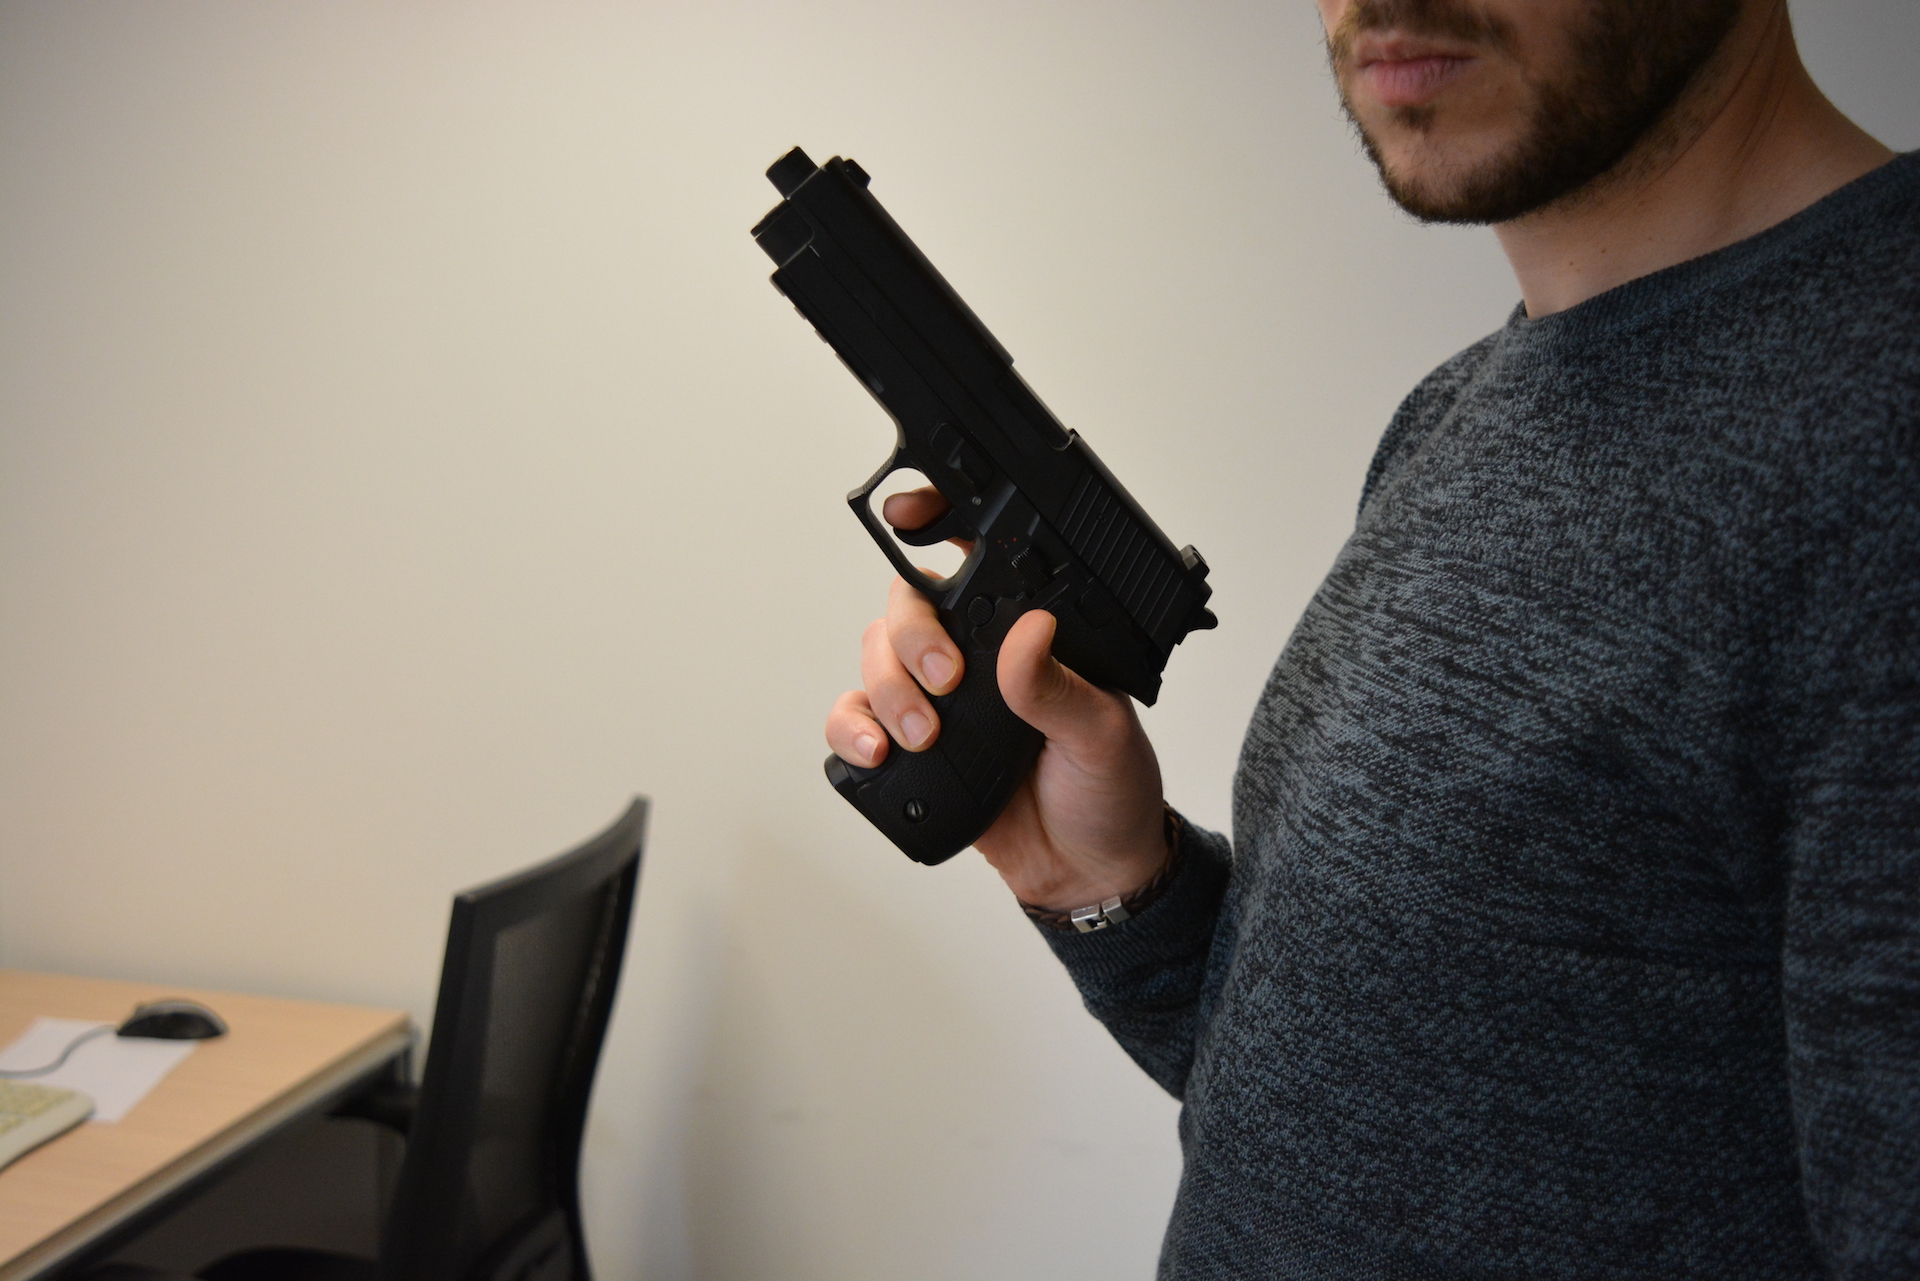pistol: (743, 136, 1222, 869)
